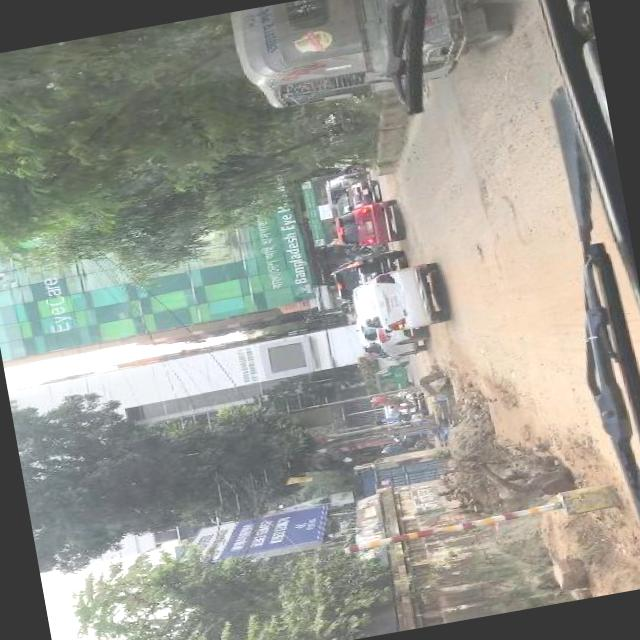car: (351, 260, 443, 334), (334, 199, 400, 251), (354, 321, 426, 364), (334, 183, 376, 210)
motorcycle: (224, 0, 516, 117), (368, 388, 428, 428), (320, 170, 369, 207), (370, 360, 413, 396), (381, 437, 436, 457)
truck: (330, 251, 401, 299)
